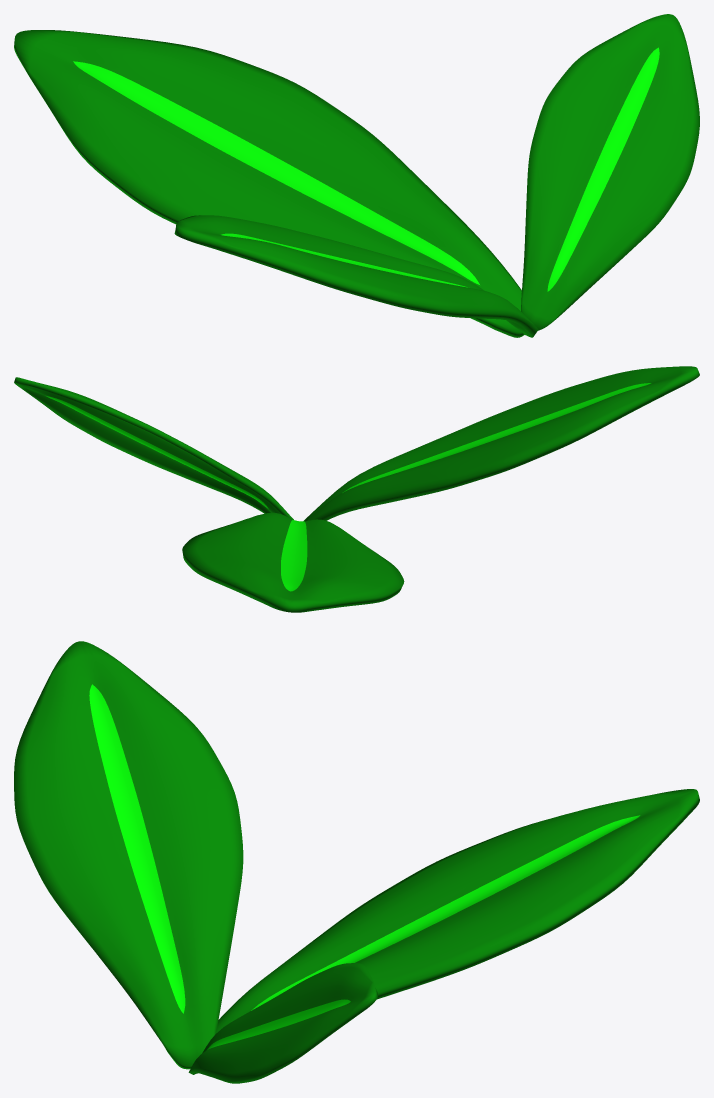
File: Leaves.fbx
3 views of the same model, one above another, from view 1: azimuth 30°, elevation 25°; view 2: azimuth 150°, elevation 25°; view 3: azimuth 270°, elevation 25° (orthographic). The views are drawn at different scales.
Parts seen in each view (by area): view 1: Plane.010, Plane.011, Plane.012; view 2: Plane.012, Plane.010, Plane.011; view 3: Plane.012, Plane.010, Plane.011.
Boxes of the visible parts, x1,y1,x2,y2 form: Plane.010: (14,30,524,337); Plane.011: (521,14,699,330); Plane.012: (174,215,538,337); Plane.012: (303,366,699,521); Plane.010: (182,512,404,612); Plane.011: (14,377,293,519); Plane.012: (14,641,243,1069); Plane.010: (216,789,699,1033); Plane.011: (188,963,377,1083).
Size of the model in its own units: 49.23 by 46.78 by 18.11.
